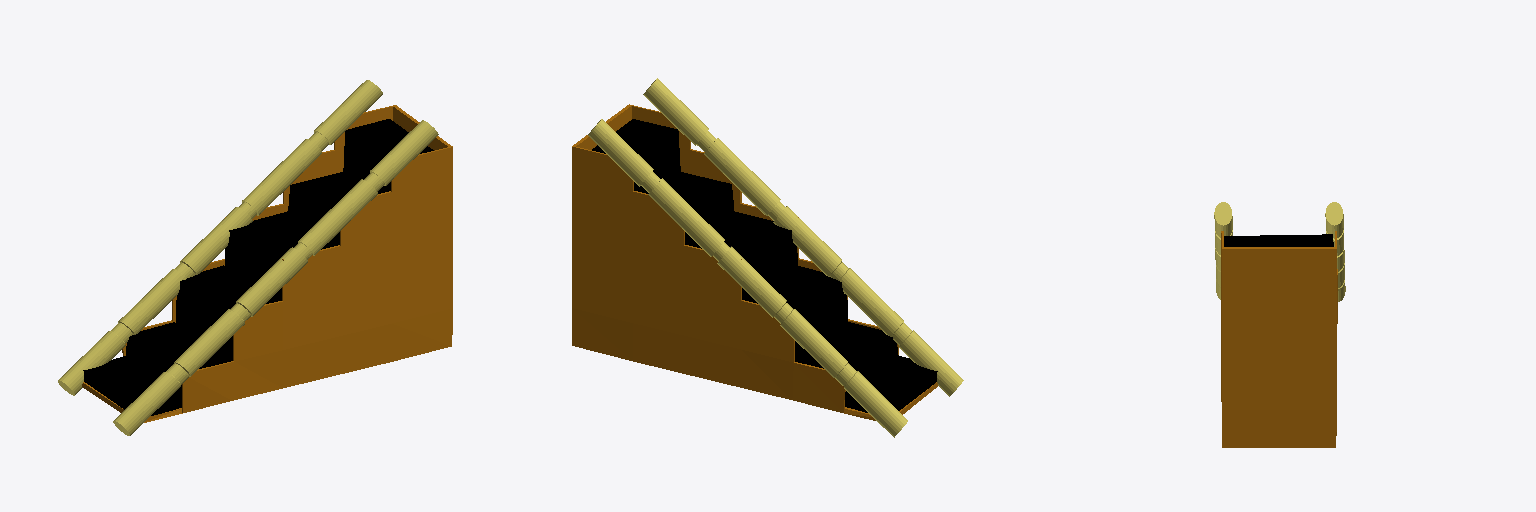
The model's file is Escalator.obj.
3 views of the same model, side by side, from view 1: azimuth 30°, elevation 25°; view 2: azimuth 150°, elevation 25°; view 3: azimuth 270°, elevation 25° (orthographic).
Visible parts, largest first — view 1: Escalator, Handle, Handle002, Tile005, Tile003, Tile002, Tile006, Tile001, Tile004; view 2: Escalator, Handle002, Handle, Tile005, Tile003, Tile002, Tile006, Tile001, Tile004; view 3: Escalator, Tile006, Handle002, Handle.
Part boxes in pixels (bbox=[...]): Escalator: bbox=[82, 105, 452, 422]; Handle: bbox=[113, 120, 438, 435]; Handle002: bbox=[58, 80, 382, 395]; Tile005: bbox=[225, 211, 336, 301]; Tile003: bbox=[176, 265, 273, 361]; Tile002: bbox=[126, 322, 229, 395]; Tile006: bbox=[343, 119, 433, 193]; Tile001: bbox=[83, 356, 181, 415]; Tile004: bbox=[288, 172, 357, 245]; Escalator: bbox=[572, 104, 937, 420]; Handle002: bbox=[588, 119, 907, 437]; Handle: bbox=[643, 78, 963, 396]; Tile005: bbox=[690, 211, 797, 301]; Tile003: bbox=[750, 266, 847, 361]; Tile002: bbox=[796, 322, 897, 394]; Tile006: bbox=[592, 119, 680, 193]; Tile001: bbox=[845, 355, 937, 412]; Tile004: bbox=[667, 172, 733, 245]; Escalator: bbox=[1221, 231, 1337, 447]; Tile006: bbox=[1224, 234, 1333, 246]; Handle002: bbox=[1325, 202, 1345, 301]; Handle: bbox=[1214, 202, 1232, 299].
Size of the model in its own units: 68.87 by 47.85 by 23.3.